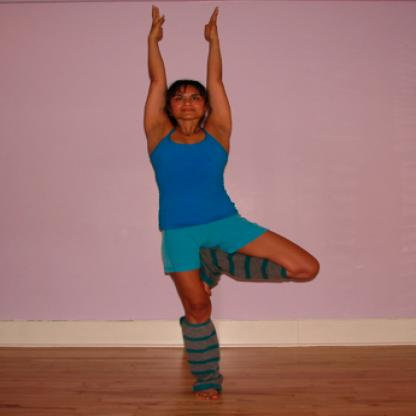tree: (123, 0, 326, 414)
